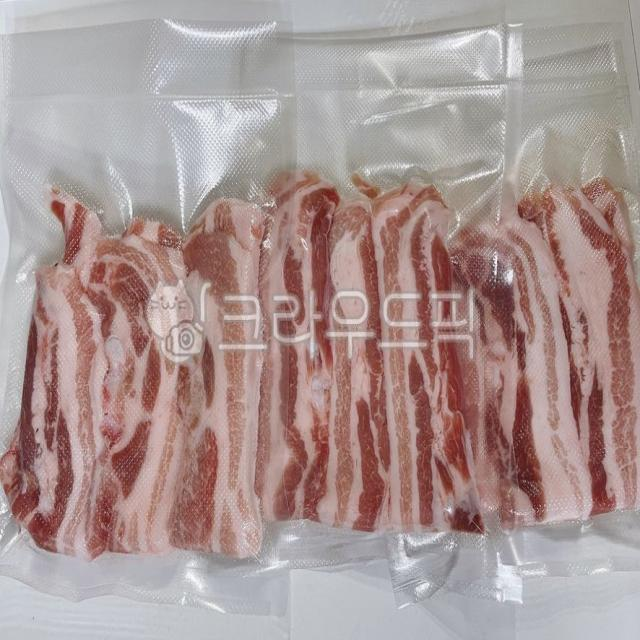pork: (11, 135, 640, 568)
